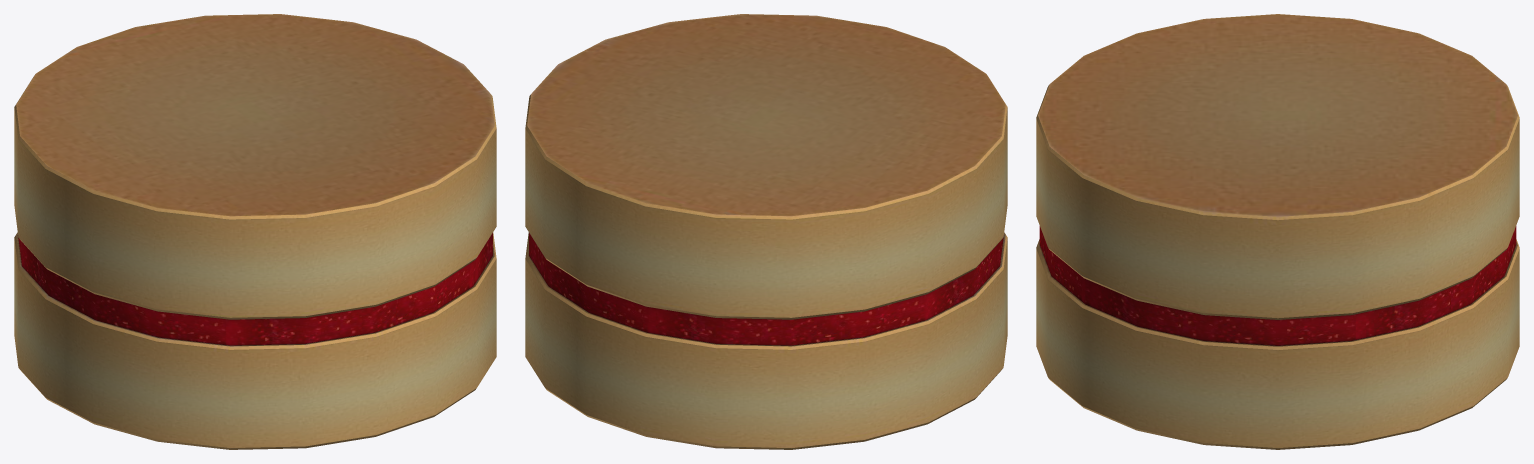
Rendered from jamCake.glb.
3 views of the same model, side by side, from view 1: azimuth 30°, elevation 25°; view 2: azimuth 150°, elevation 25°; view 3: azimuth 270°, elevation 25° (orthographic).
Parts seen in each view (by area): view 1: JamCakeLayer, JamCakeBottomLayer, JamCakeFilling; view 2: JamCakeLayer, JamCakeBottomLayer, JamCakeFilling; view 3: JamCakeLayer, JamCakeBottomLayer, JamCakeFilling.
Part boxes in pixels (x1,y1,x2,y2): JamCakeLayer: (14, 14, 496, 319); JamCakeBottomLayer: (14, 232, 496, 449); JamCakeFilling: (18, 233, 492, 345); JamCakeLayer: (525, 14, 1007, 319); JamCakeBottomLayer: (525, 232, 1007, 449); JamCakeFilling: (529, 233, 1003, 345); JamCakeLayer: (1036, 14, 1519, 319); JamCakeBottomLayer: (1036, 239, 1519, 449); JamCakeFilling: (1039, 226, 1516, 345).
Size of the model in its own units: 0.2655 by 0.1412 by 0.2655.
Materials: 1 (1 with a texture image).
